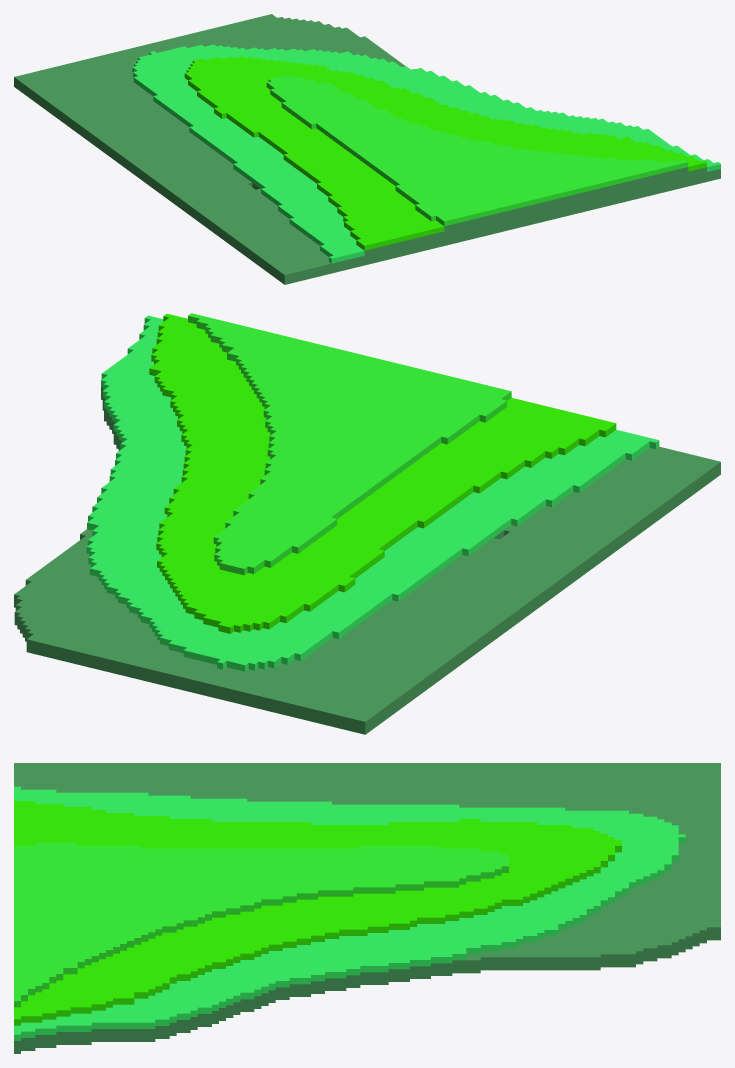
Rendered from TerrainPieces-5.obj.
3 renders of one model, top to bottom at view 1: azimuth 30°, elevation 25°; view 2: azimuth 150°, elevation 25°; view 3: azimuth 270°, elevation 25°, orthographic. The views are drawn at different scales.
Parts seen in each view (by area): view 1: TerrainPieces-5; view 2: TerrainPieces-5; view 3: TerrainPieces-5.
Boxes of the visible parts, x1=… form: TerrainPieces-5: x1=14, y1=14, x2=720, y2=284; TerrainPieces-5: x1=14, y1=313, x2=720, y2=734; TerrainPieces-5: x1=14, y1=763, x2=720, y2=1053.
Size of the model in its own units: 93 by 5 by 100.
1 material, 1 textured.
